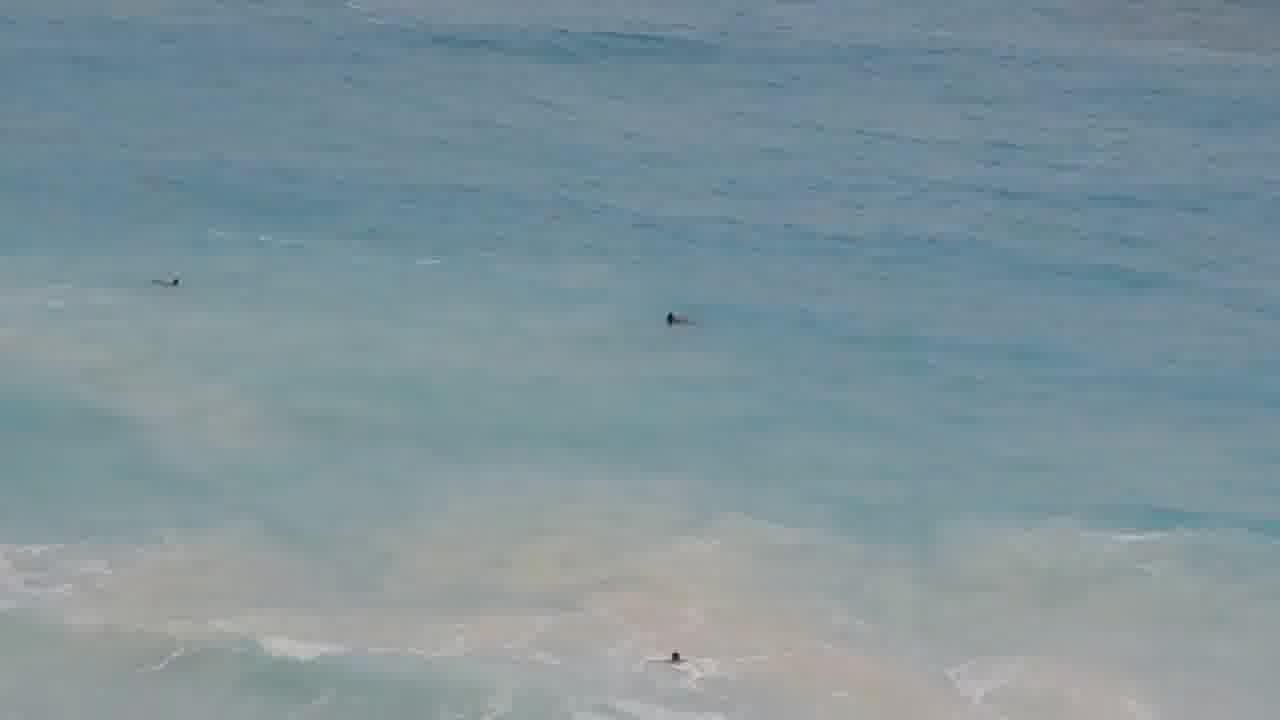swimmer: (649, 294, 701, 348), (645, 645, 703, 685), (155, 262, 190, 306)
